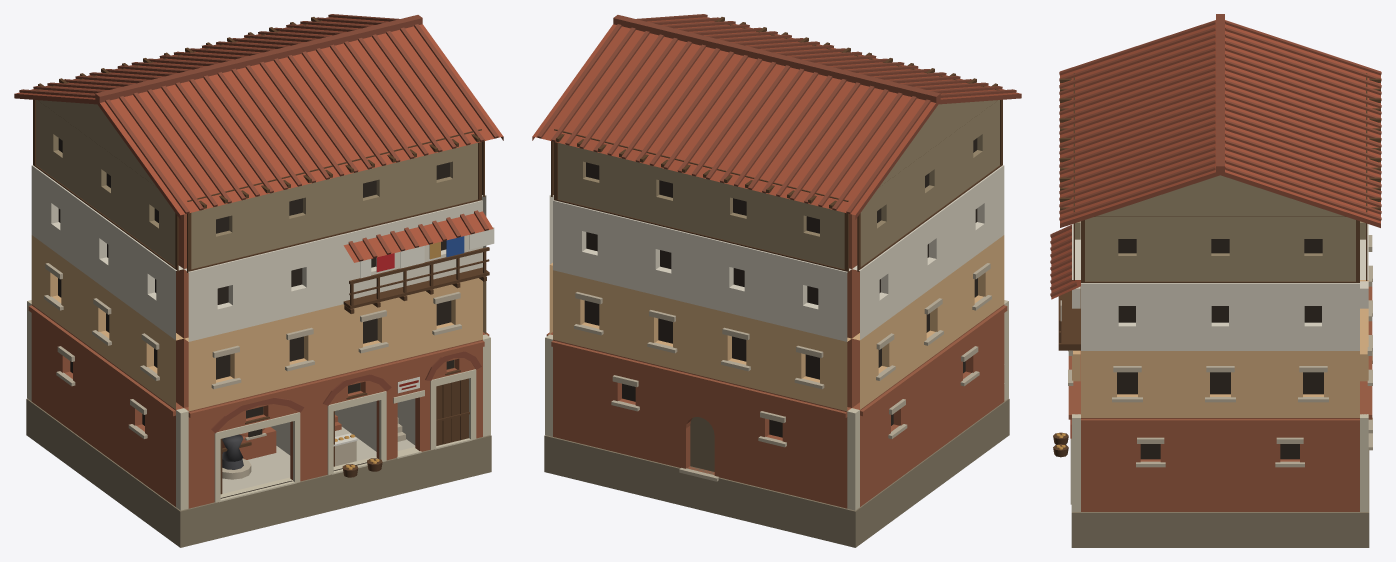
The model's file is rome_insula_f.glb.
3 renders of one model, left to right at view 1: azimuth 30°, elevation 25°; view 2: azimuth 150°, elevation 25°; view 3: azimuth 270°, elevation 25°, orthographic. The views are drawn at different scales.
Parts seen in each view (by area): view 1: rome_insula_f; view 2: rome_insula_f; view 3: rome_insula_f.
Boxes of the visible parts, box(x1,y1,x2,y2) form: rome_insula_f: box(14, 14, 503, 547); rome_insula_f: box(532, 14, 1021, 547); rome_insula_f: box(1050, 14, 1381, 547).
Size of the model in its own units: 14.6 by 17.18 by 13.42.
